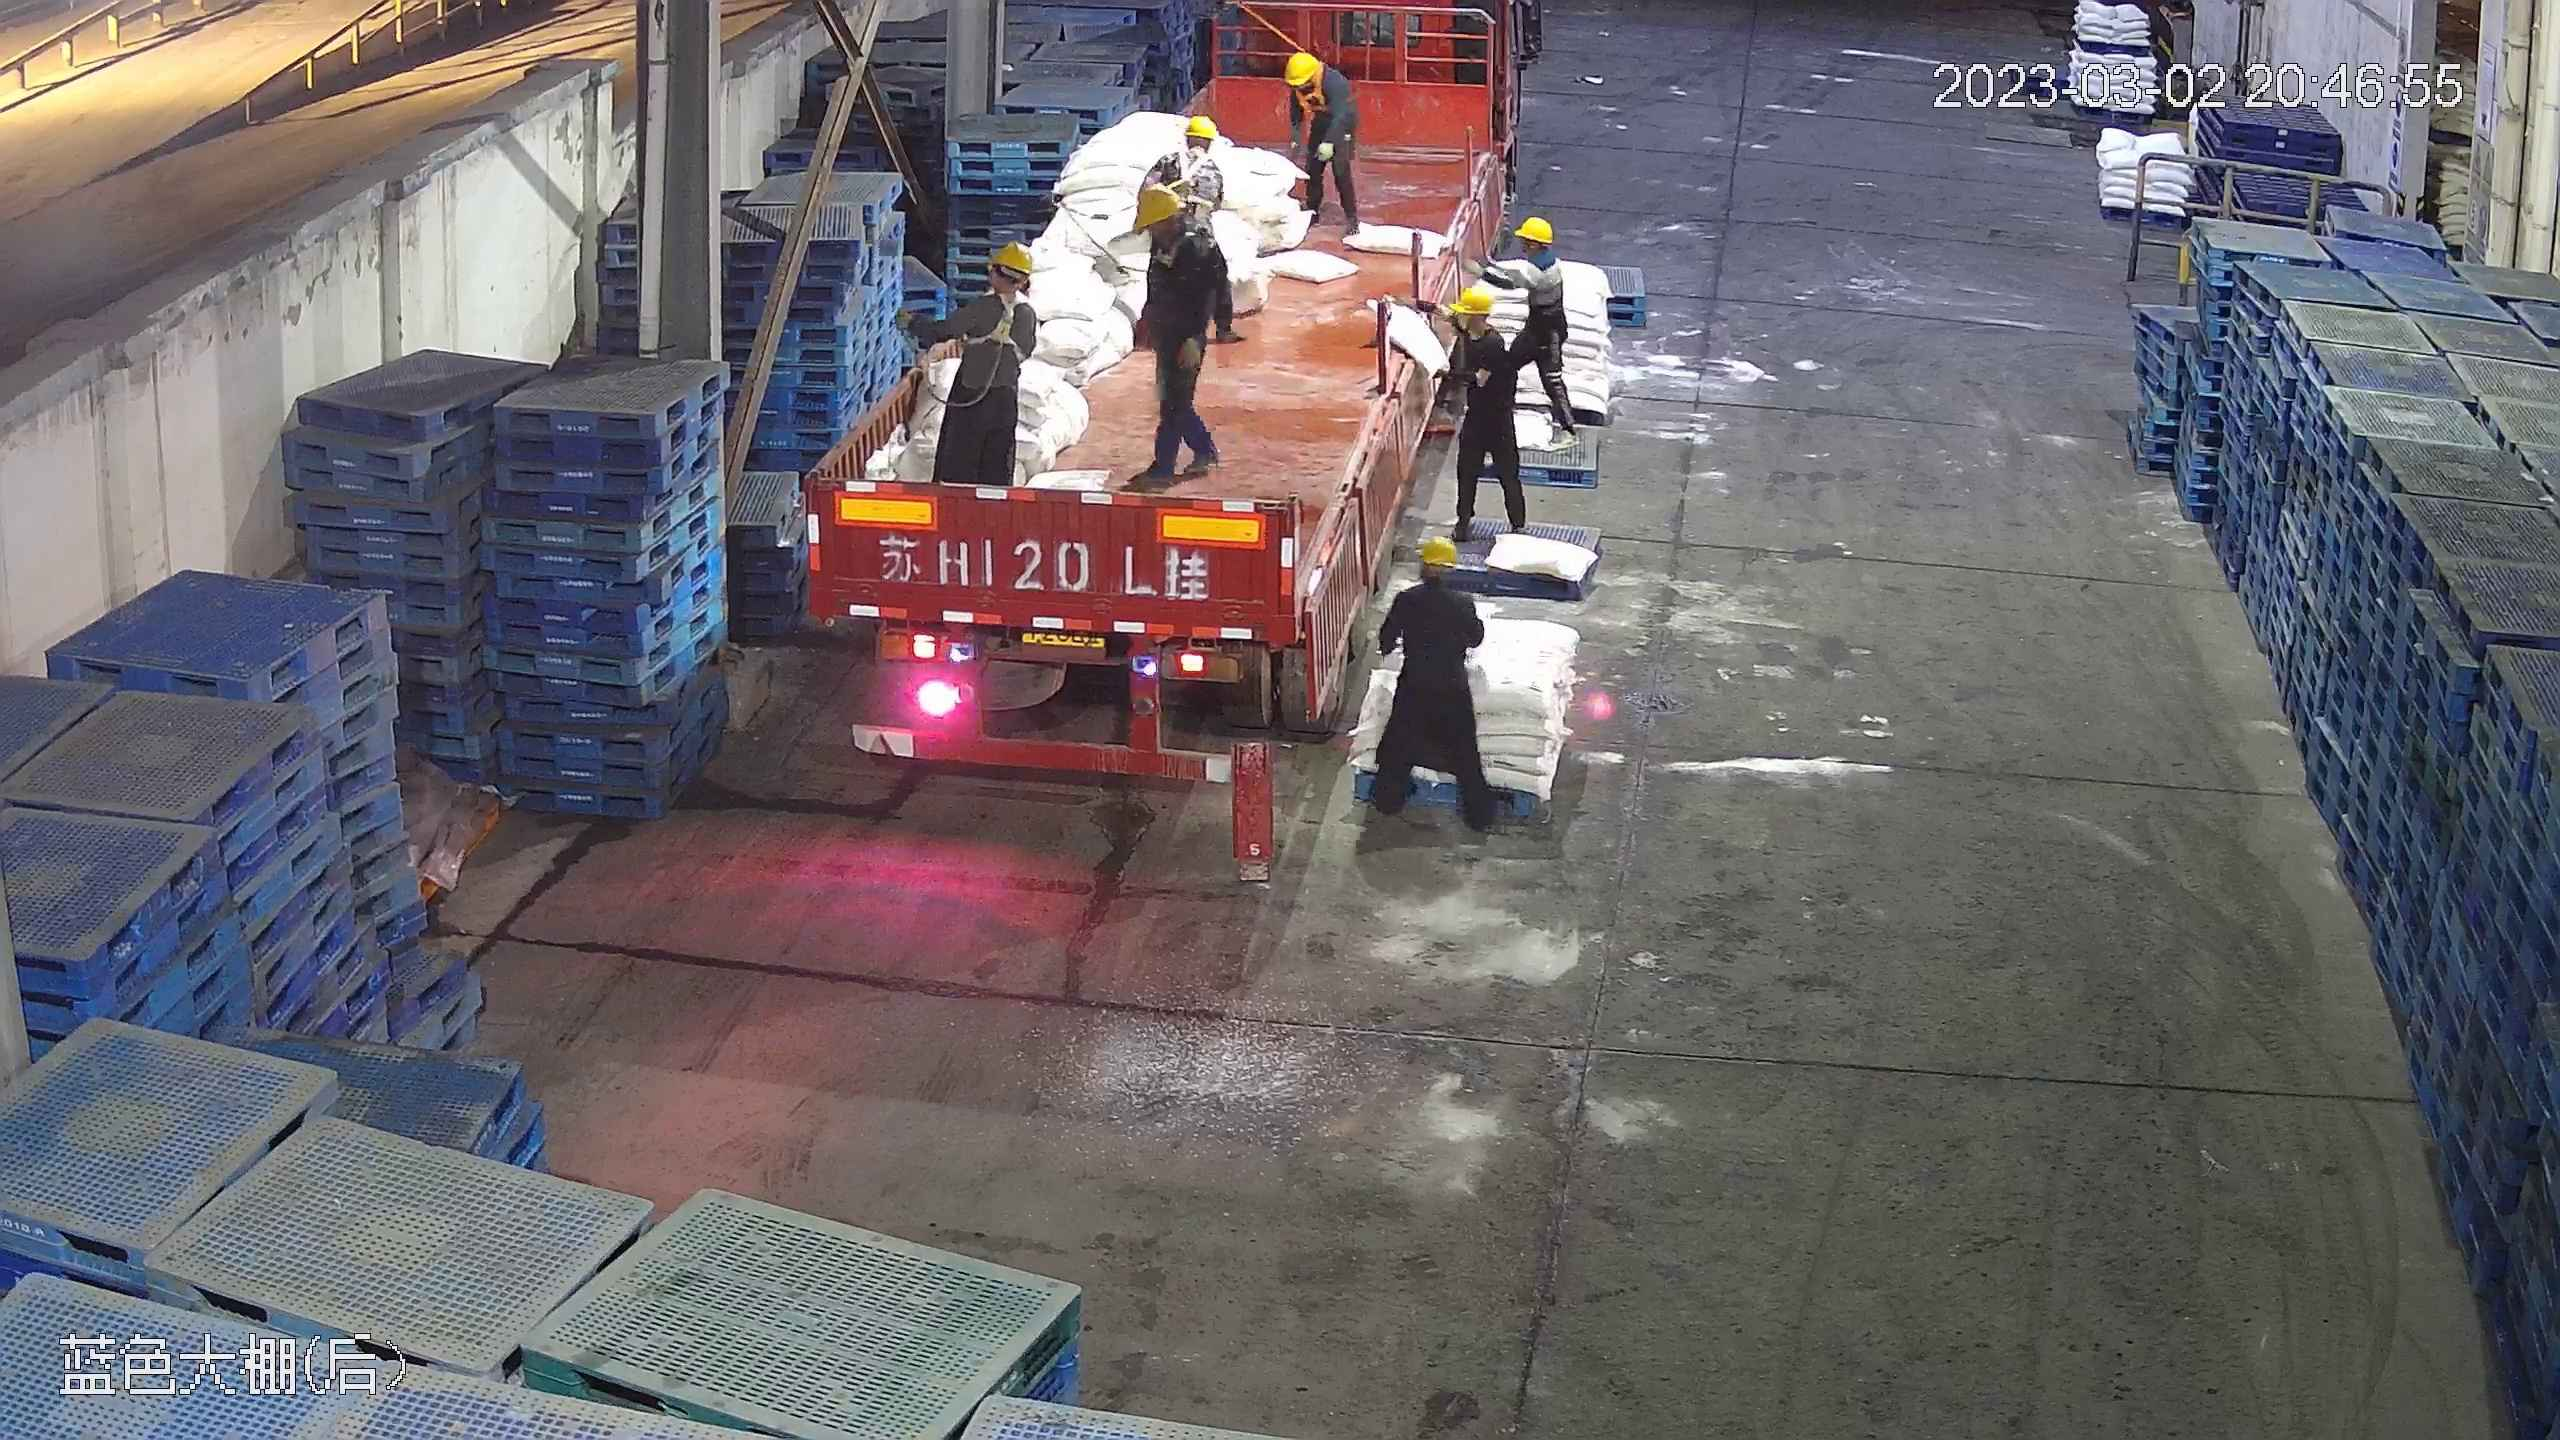belt: (965, 284, 1036, 352), (1160, 167, 1222, 217), (1155, 228, 1204, 265), (1292, 82, 1331, 115)
head: (1386, 534, 1481, 628), (1135, 183, 1226, 276), (955, 241, 1041, 334), (1439, 283, 1515, 376), (1155, 116, 1229, 186), (1505, 216, 1567, 296), (1283, 49, 1350, 113)
helmet: (1134, 182, 1184, 227), (1446, 285, 1497, 321), (986, 241, 1036, 278), (1283, 48, 1327, 86), (1412, 534, 1458, 567), (1513, 215, 1555, 246), (1179, 113, 1219, 142)
people: (1362, 530, 1509, 839), (899, 240, 1038, 491), (1126, 181, 1234, 483), (1435, 280, 1525, 542), (1503, 214, 1578, 436), (1283, 44, 1364, 231)
truck: (799, 25, 1514, 803)
